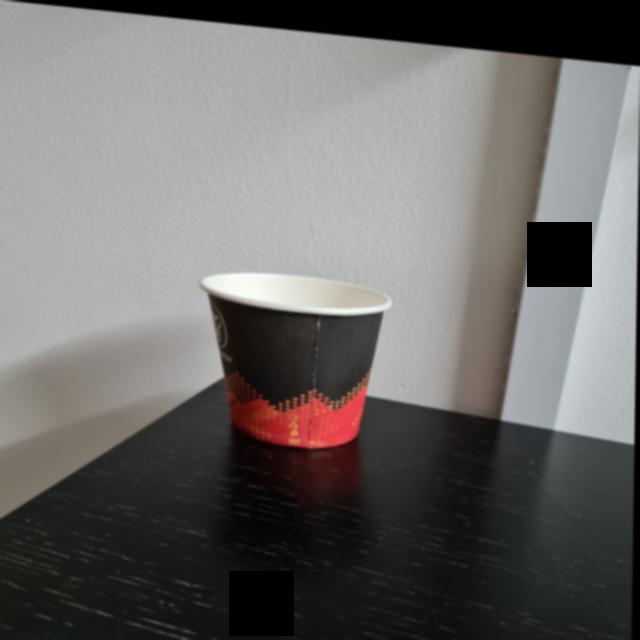cups: (202, 260, 397, 452)
